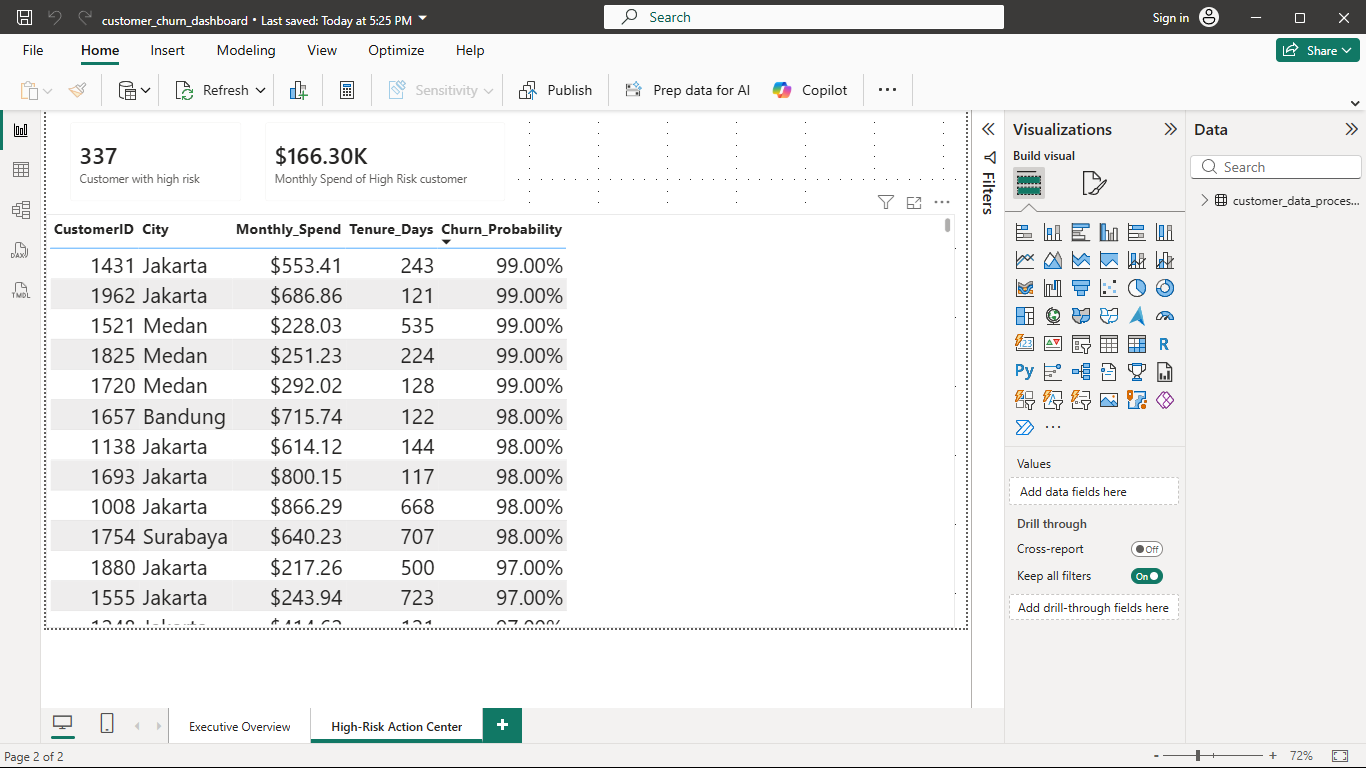

The dashboard page shown, as its layout file describes it:
{"tool":"powerbi","page":{"name":"High-Risk Action Center","canvas":[1280,720],"ordinal":1},"visuals":[{"type":"cardVisual","fields":{"Data":["Count(customer_data_processed.CustomerID)"]},"box":[16,0,272,144],"z":0},{"type":"cardVisual","fields":{"Data":["Sum(customer_data_processed.Monthly_Spend)"]},"box":[288,0,368,144],"z":1000},{"type":"tableEx","fields":{"Values":["customer_data_processed.CustomerID","customer_data_processed.City","customer_data_processed.Monthly_Spend","customer_data_processed.Tenure_Days","customer_data_processed.Churn_Probability"]},"box":[0,144,1264,576],"z":2000}]}

Visuals, with their boxes on the page's 1280x720 design canvas (x1, y1, x2, y2). These are canvas units, not pixel positions in the 1366x768 screenshot, which may show the page scaled, cropped or inside an application window:
cardVisual - Count(customer_data_processed.CustomerID): left=16, top=0, right=288, bottom=144
cardVisual - Sum(customer_data_processed.Monthly_Spend): left=288, top=0, right=656, bottom=144
tableEx - customer_data_processed.CustomerID x customer_data_processed.City: left=0, top=144, right=1264, bottom=720
